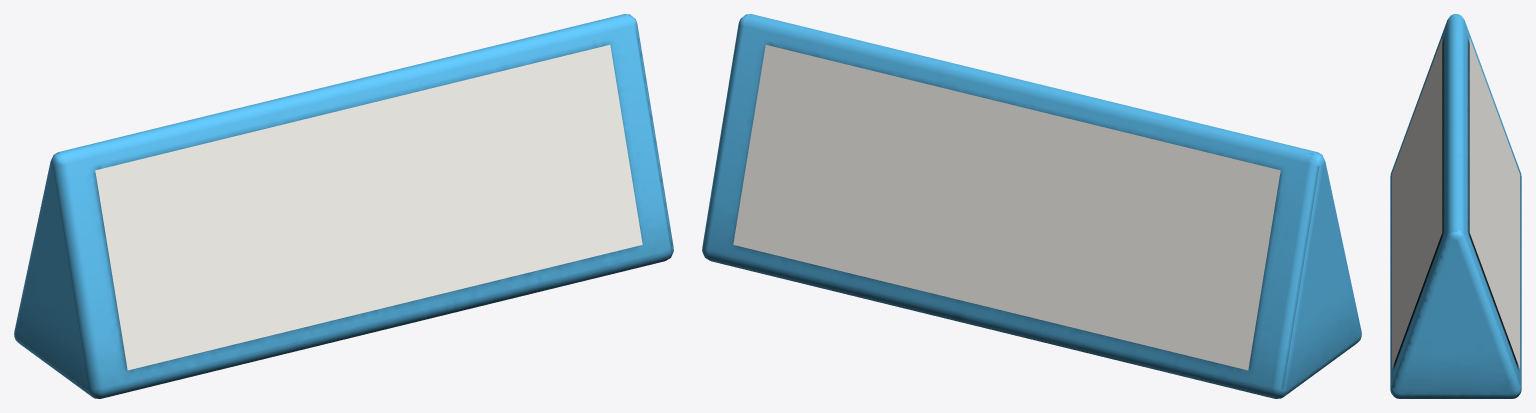
The model's file is nameplate.glb.
3 renders of one model, left to right at view 1: azimuth 30°, elevation 25°; view 2: azimuth 150°, elevation 25°; view 3: azimuth 270°, elevation 25°, orthographic. The views are drawn at different scales.
Visible parts, largest first — view 1: nameplate; view 2: nameplate; view 3: nameplate.
Boxes of the visible parts, x1,y1,x2,y2 form: nameplate: (14, 14, 673, 398); nameplate: (702, 14, 1361, 398); nameplate: (1390, 14, 1521, 398).
Bounding box in the file's own units: 0.34 × 0.1218 × 0.0853.
Materials: 2 (1 with a texture image).
